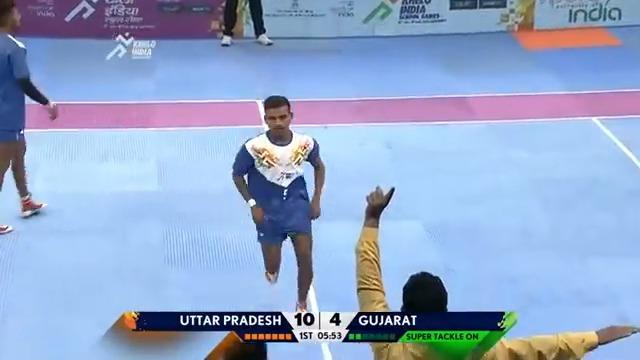Player: (0, 0, 58, 234), (218, 0, 273, 46)
Raider: (230, 94, 325, 313)
referee: (353, 184, 638, 359)
